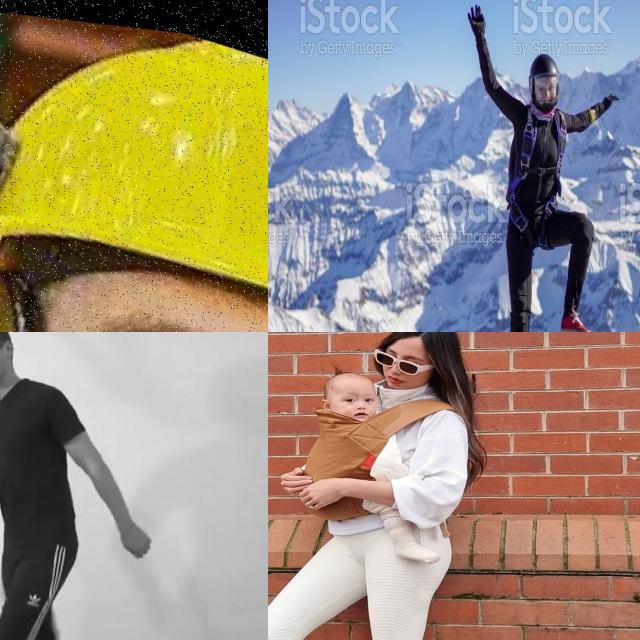Harness: (508, 108, 565, 232)
No_Ear-Protection: (3, 337, 16, 367)
No_Glasses: (100, 291, 197, 332)
hand_noglove: (101, 494, 157, 571)
head_helmet: (0, 38, 268, 332)
person: (0, 332, 152, 640)
